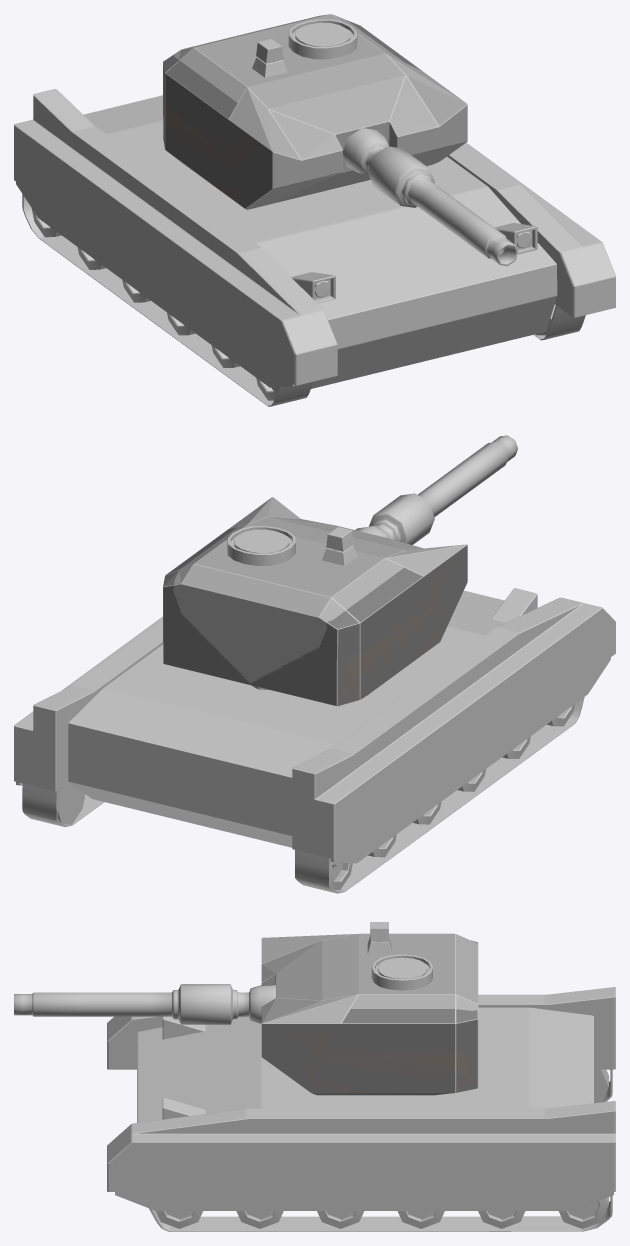
File: enemy.obj
The picture shows the model from 3 angles, top to bottom: view 1: azimuth 30°, elevation 25°; view 2: azimuth 150°, elevation 25°; view 3: azimuth 270°, elevation 25°; orthographic projection. The views are drawn at different scales.
Visible parts, largest first — view 1: 立方体.005, 立方体.008, 立方体.003, 立方体.006, 立方体.011, 立方体.007, 平面, 立方体.009, 円, 立方体.004; view 2: 立方体.008, 立方体.003, 立方体.005, 立方体.007, 立方体.011, 立方体.006, 円, 平面, 立方体.004, 立方体.009; view 3: 立方体.008, 立方体.003, 立方体.005, 立方体.011, 立方体.006, 立方体.007, 円, 平面, 立方体.009, 立方体.004.
Part boxes in pixels (<box>): 立方体.005: <box>83,95,557,388</box>; 立方体.008: <box>14,89,615,385</box>; 立方体.003: <box>163,14,467,209</box>; 立方体.006: <box>343,128,517,265</box>; 立方体.011: <box>16,182,295,387</box>; 立方体.007: <box>22,194,585,406</box>; 平面: <box>288,19,357,59</box>; 立方体.009: <box>291,223,537,303</box>; 円: <box>31,208,555,400</box>; 立方体.004: <box>252,39,287,77</box>; 立方体.008: <box>14,597,615,859</box>; 立方体.003: <box>163,497,467,706</box>; 立方体.005: <box>68,590,505,847</box>; 立方体.007: <box>22,697,584,893</box>; 立方体.011: <box>16,657,610,863</box>; 立方体.006: <box>355,435,517,544</box>; 円: <box>57,703,575,889</box>; 平面: <box>227,526,295,565</box>; 立方体.004: <box>322,527,357,565</box>; 立方体.009: <box>491,588,537,622</box>; 立方体.008: <box>107,987,615,1191</box>; 立方体.003: <box>261,933,478,1095</box>; 立方体.005: <box>137,1007,593,1122</box>; 立方体.011: <box>115,1192,613,1210</box>; 立方体.006: <box>14,984,275,1024</box>; 立方体.007: <box>149,1069,612,1231</box>; 円: <box>156,1069,608,1228</box>; 平面: <box>371,954,432,990</box>; 立方体.009: <box>162,1016,205,1119</box>; 立方体.004: <box>367,922,391,953</box>.
Size of the model in its own units: 7.5 by 5.53 by 13.48.
